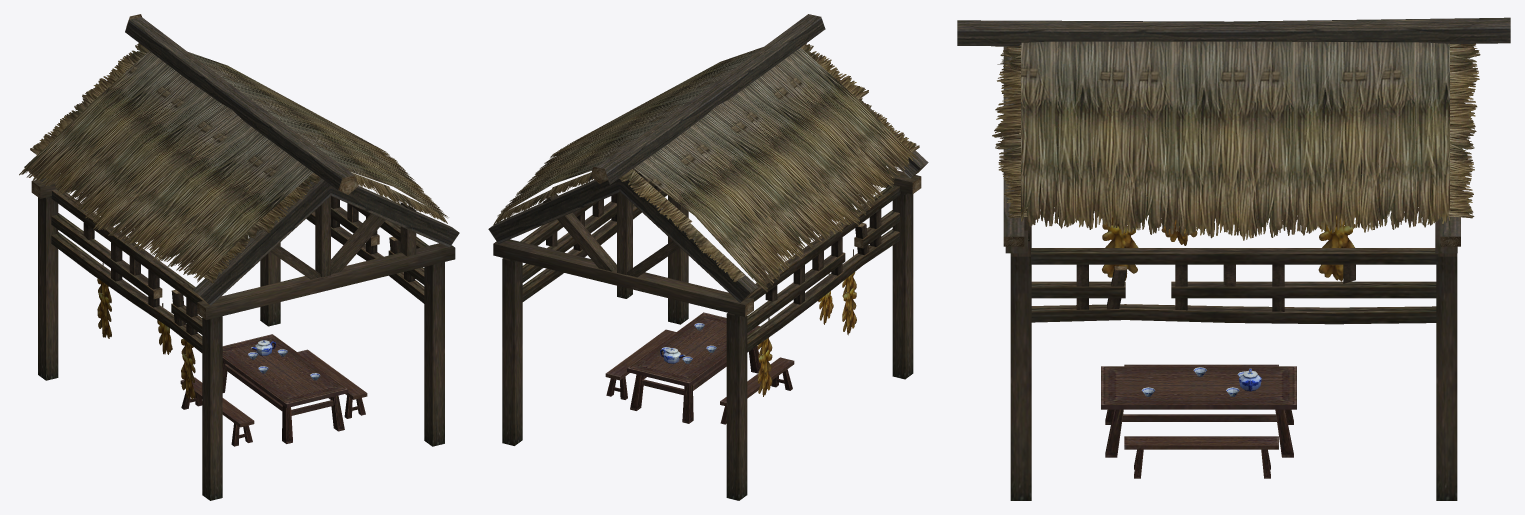
File: JJS_QY_CaoTing.FBX
3 renders of one model, left to right at view 1: azimuth 30°, elevation 25°; view 2: azimuth 150°, elevation 25°; view 3: azimuth 270°, elevation 25°, orthographic. The views are drawn at different scales.
Parts seen in each view (by area): view 1: JJS_QY_CaoTing, JJS_QY_CaoTingDing, JJS_QY_ChangZhuo; view 2: JJS_QY_CaoTing, JJS_QY_CaoTingDing, JJS_QY_ChangZhuo; view 3: JJS_QY_CaoTingDing, JJS_QY_CaoTing, JJS_QY_ChangZhuo.
Boxes of the visible parts, left/top/right/bottom form: JJS_QY_CaoTing: left=24, top=14, right=459, bottom=500; JJS_QY_CaoTingDing: left=19, top=43, right=448, bottom=283; JJS_QY_ChangZhuo: left=180, top=334, right=367, bottom=446; JJS_QY_CaoTing: left=488, top=14, right=928, bottom=500; JJS_QY_CaoTingDing: left=493, top=43, right=919, bottom=292; JJS_QY_ChangZhuo: left=605, top=312, right=794, bottom=424; JJS_QY_CaoTingDing: left=991, top=41, right=1480, bottom=240; JJS_QY_CaoTing: left=957, top=17, right=1510, bottom=500; JJS_QY_ChangZhuo: left=1101, top=364, right=1296, bottom=478.
Bounding box in the file's own units: 649 × 643 × 787.
